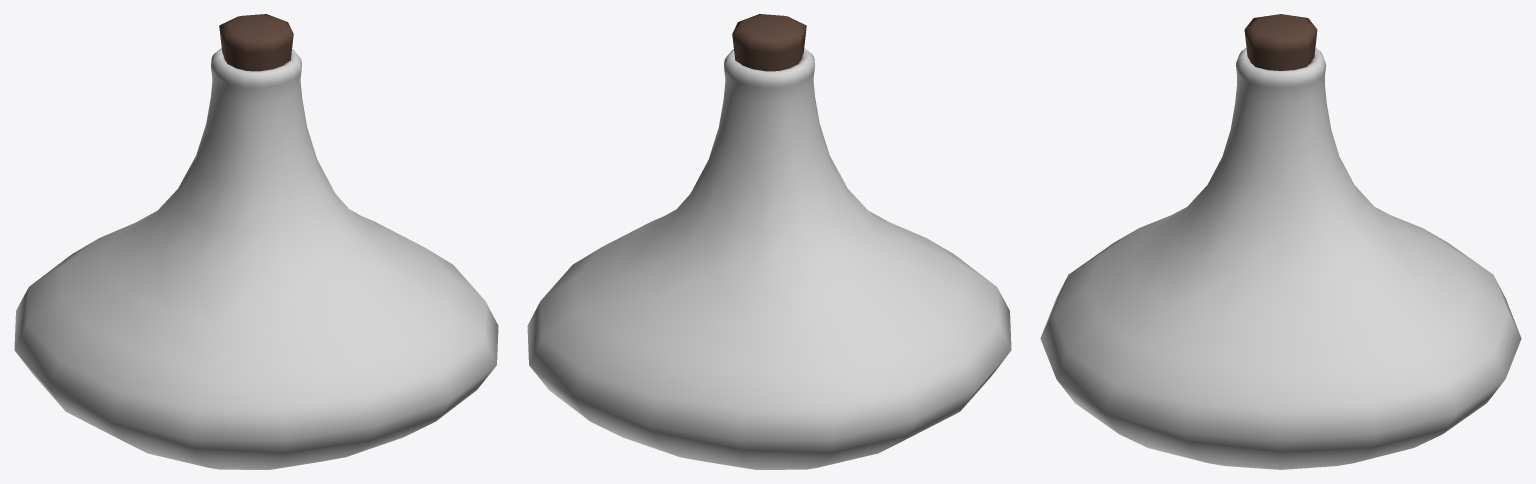
The model's file is Potion8_Filled.glb.
3 views of the same model, side by side, from view 1: azimuth 30°, elevation 25°; view 2: azimuth 150°, elevation 25°; view 3: azimuth 270°, elevation 25° (orthographic).
Visible parts, largest first — view 1: Potion8_Filled_Cube.056; view 2: Potion8_Filled_Cube.056; view 3: Potion8_Filled_Cube.056.
Part boxes in pixels (x1,y1,x2,y2): Potion8_Filled_Cube.056: (14, 14, 498, 469); Potion8_Filled_Cube.056: (527, 14, 1011, 469); Potion8_Filled_Cube.056: (1040, 14, 1521, 469).
Size of the model in its own units: 0.7035 by 0.6822 by 0.7035.
